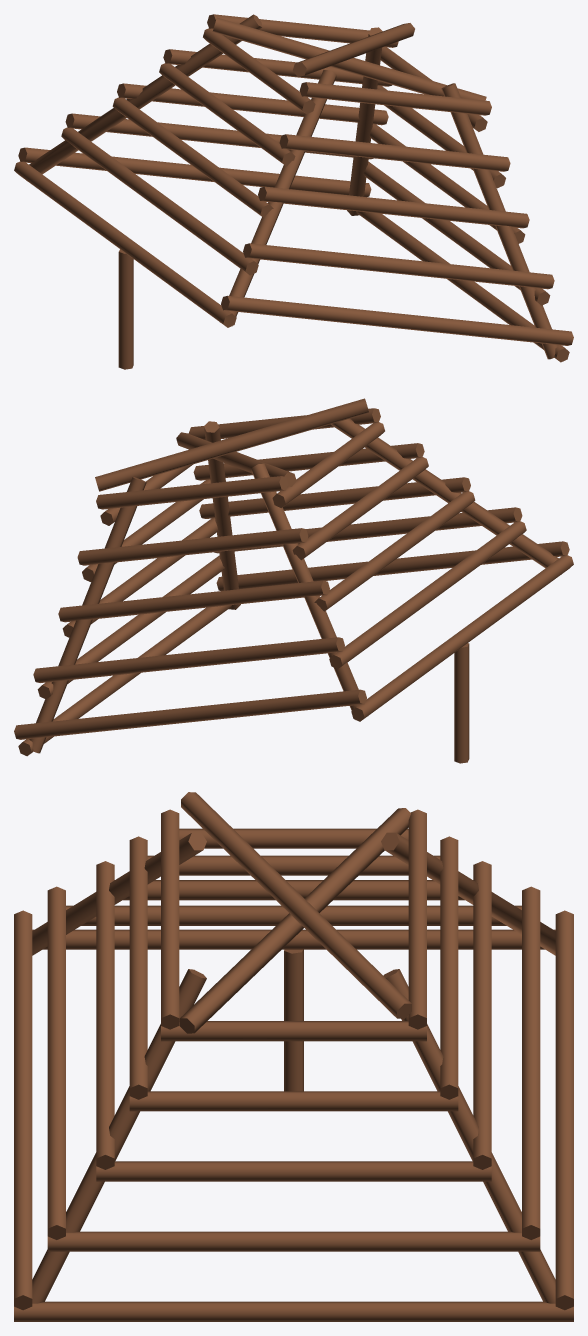
File: armadilhacoelho1.fbx
The picture shows the model from 3 angles, top to bottom: view 1: azimuth 30°, elevation 25°; view 2: azimuth 150°, elevation 25°; view 3: azimuth 270°, elevation 25°; orthographic projection. The views are drawn at different scales.
Parts seen in each view (by area): view 1: Cylinder.003, Cylinder.004, Cylinder.005, Cylinder.018, Cylinder.017, Cylinder.006, Cylinder.023, Cylinder.019, Cylinder.028, Cylinder.026, Cylinder.007, Cylinder.015 (+15 smaller); view 2: Cylinder.017, Cylinder.016, Cylinder.024, Cylinder.015, Cylinder.018, Cylinder.003, Cylinder.014, Cylinder.019, Cylinder.025, Cylinder.027, Cylinder.013, Cylinder.005 (+15 smaller); view 3: Cylinder.008, Cylinder.009, Cylinder.010, Cylinder.003, Cylinder.017, Cylinder.024, Cylinder.011, Cylinder.004, Cylinder.016, Cylinder.018, Cylinder.023, Cylinder.005 (+15 smaller).
Part boxes in pixels (x1,y1,x2,y2): Cylinder.003: (221,295,573,345); Cylinder.004: (243,243,554,289); Cylinder.005: (258,186,529,228); Cylinder.018: (14,161,236,327); Cylinder.017: (18,147,371,197); Cylinder.006: (279,134,510,171); Cylinder.023: (212,17,486,100); Cylinder.019: (61,127,258,275); Cylinder.028: (441,83,558,359); Cylinder.026: (29,14,262,174); Cylinder.007: (299,82,491,115); Cylinder.015: (117,83,388,125); Cylinder.017: (14,689,366,739); Cylinder.016: (33,637,344,682); Cylinder.024: (95,398,369,491); Cylinder.015: (58,580,329,622); Cylinder.018: (351,555,573,721); Cylinder.003: (216,541,569,590); Cylinder.014: (77,528,308,565); Cylinder.019: (329,521,526,669); Cylinder.025: (29,477,146,753); Cylinder.027: (330,418,561,574); Cylinder.013: (96,476,288,509); Cylinder.005: (199,477,470,518); Cylinder.008: (14,1301,573,1321); Cylinder.009: (47,1231,540,1251); Cylinder.010: (96,1161,491,1181); Cylinder.003: (14,910,32,1310); Cylinder.017: (555,910,573,1310); Cylinder.024: (181,792,411,1018); Cylinder.011: (129,1091,458,1111); Cylinder.004: (47,886,65,1239); Cylinder.016: (522,886,540,1239); Cylinder.018: (32,929,555,949); Cylinder.023: (179,808,410,1033); Cylinder.005: (96,861,114,1169).
Bounding box in the file's own units: 108 × 88.11 × 111.
